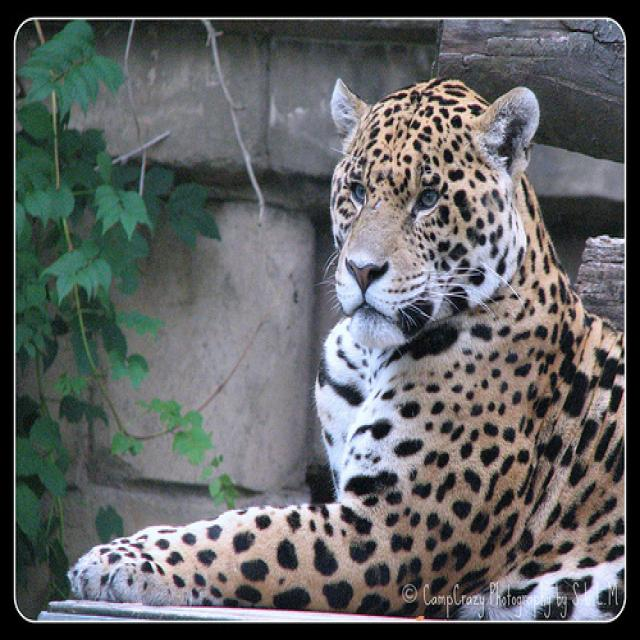Leopard: (62, 74, 622, 621)
